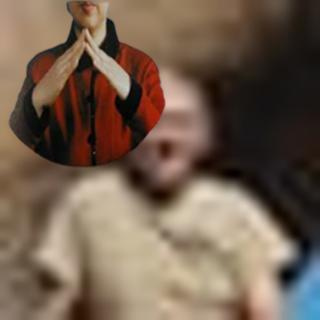HOME: (36, 27, 130, 102)
